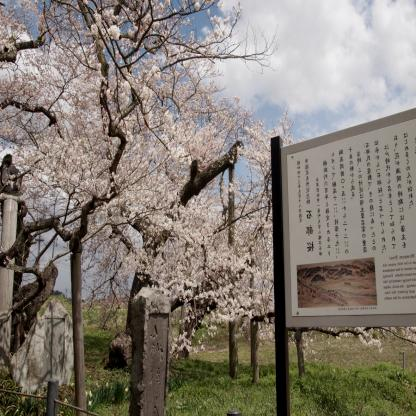EdohiganSakura: (1, 3, 273, 335)
